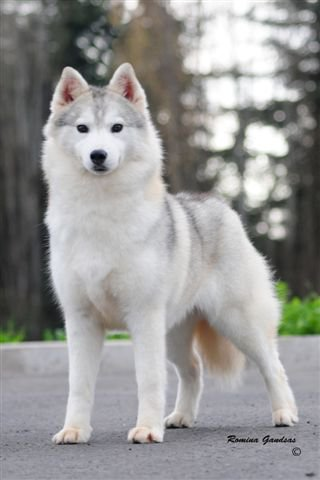husky: (31, 54, 302, 448)
